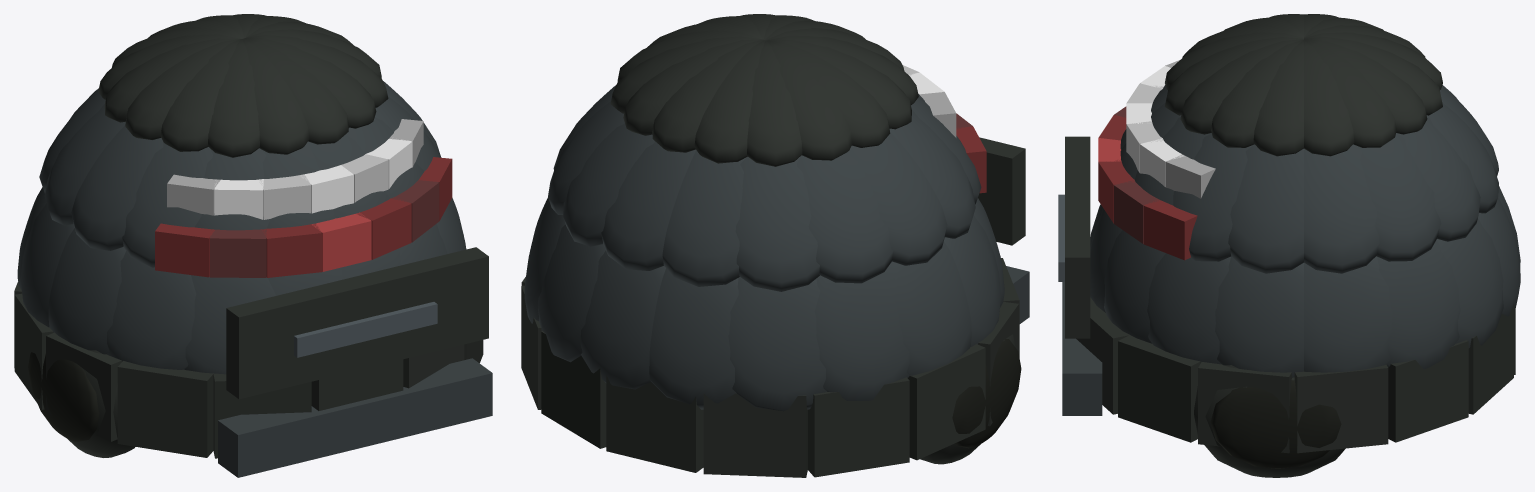
File: CMU3DRiotHelmetCloud.glb
3 renders of one model, left to right at view 1: azimuth 30°, elevation 25°; view 2: azimuth 150°, elevation 25°; view 3: azimuth 270°, elevation 25°, orthographic. The views are drawn at different scales.
Visible parts, largest first — view 1: front upper guard plate, front lower reinforcing ridge, hollow lower shell 9, rounded joined shell patch 0-9, rounded joined shell patch 0-8, rounded joined shell patch 1-8, rounded joined shell patch 1-9, rounded joined shell patch 0-10, -1 ear guard inset, rounded joined shell patch 2-10, rounded joined shell patch 2-11, rounded joined shell patch 2-9 (+44 smaller); view 2: rounded joined shell patch 0-5, rounded joined shell patch 0-6, rounded joined shell patch 0-4, rounded joined shell patch 1-5, rounded joined shell patch 1-6, rounded joined shell patch 1-4, hollow lower shell 6, rounded joined shell patch 0-3, hollow lower shell 5, rounded joined shell patch 0-7, rounded joined shell patch 1-3, rounded joined shell patch 1-7 (+33 smaller); view 3: rounded joined shell patch 0-15, rounded joined shell patch 0-0, rounded joined shell patch 1-15, rounded joined shell patch 1-0, 1 ear guard inset, rounded joined shell patch 0-1, rounded joined shell patch 0-14, rounded joined shell patch 1-1, hollow lower shell 13, hollow lower shell 2, hollow lower shell 1, front upper guard plate (+38 smaller).
Boxes of the visible parts, x1,y1,x2,y2 form: front upper guard plate: (226, 247, 488, 399); front lower reinforcing ridge: (218, 358, 492, 477); hollow lower shell 9: (117, 361, 213, 457); rounded joined shell patch 0-9: (107, 251, 196, 369); rounded joined shell patch 0-8: (48, 228, 125, 354); rounded joined shell patch 1-8: (71, 125, 163, 250); rounded joined shell patch 1-9: (122, 141, 212, 267); rounded joined shell patch 0-10: (184, 275, 275, 374); -1 ear guard inset: (28, 352, 99, 441); rounded joined shell patch 2-10: (207, 39, 259, 157); rounded joined shell patch 2-11: (242, 38, 309, 154); rounded joined shell patch 2-9: (160, 39, 240, 151); rounded joined shell patch 0-5: (728, 277, 827, 411); rounded joined shell patch 0-6: (814, 266, 909, 400); rounded joined shell patch 0-4: (649, 268, 738, 409); rounded joined shell patch 1-5: (735, 156, 819, 291); rounded joined shell patch 1-6: (797, 150, 893, 283); rounded joined shell patch 1-4: (662, 150, 746, 286); hollow lower shell 6: (808, 377, 909, 477); rounded joined shell patch 0-3: (580, 250, 665, 389); hollow lower shell 5: (703, 393, 807, 477); rounded joined shell patch 0-7: (889, 241, 971, 376); rounded joined shell patch 1-3: (601, 141, 695, 270); rounded joined shell patch 1-7: (849, 132, 947, 265); rounded joined shell patch 0-15: (1215, 256, 1303, 377); rounded joined shell patch 0-0: (1304, 256, 1392, 372); rounded joined shell patch 1-15: (1228, 144, 1303, 273); rounded joined shell patch 1-0: (1304, 144, 1379, 273); 1 ear guard inset: (1210, 380, 1341, 468); rounded joined shell patch 0-1: (1376, 239, 1460, 369); rounded joined shell patch 0-14: (1147, 253, 1230, 364); rounded joined shell patch 1-1: (1353, 133, 1441, 261); hollow lower shell 13: (1118, 335, 1200, 442); hollow lower shell 2: (1388, 340, 1468, 442); hollow lower shell 1: (1294, 364, 1388, 453); front upper guard plate: (1065, 136, 1090, 338).
Size of the model in its own units: 0.352 by 0.2978 by 0.3464.
19 materials, 14 textured.
